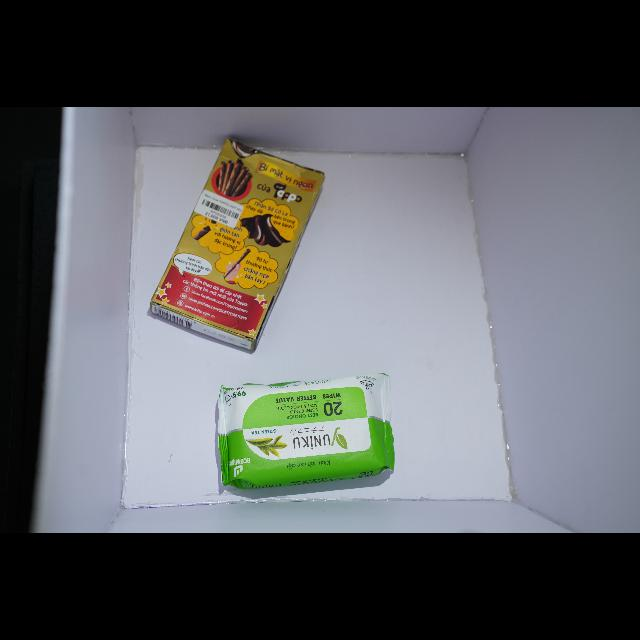banh_toppo_socola: (150, 138, 325, 350)
khan_giay: (218, 374, 394, 489)
